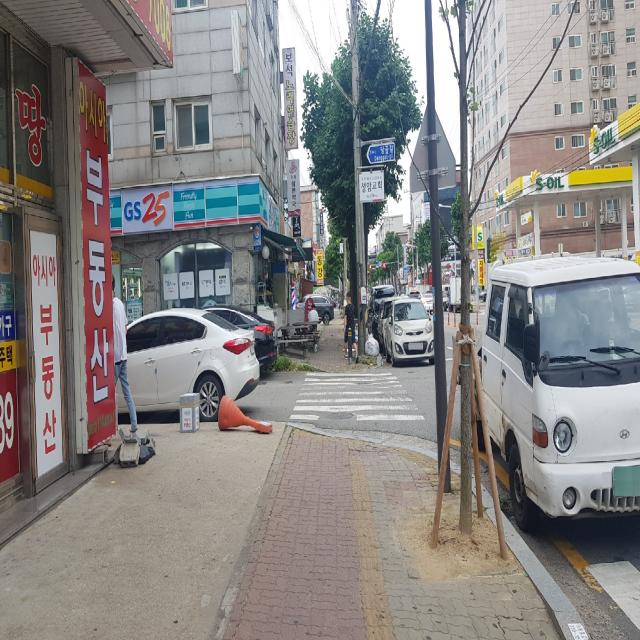횡단보도: (289, 373, 425, 421)
